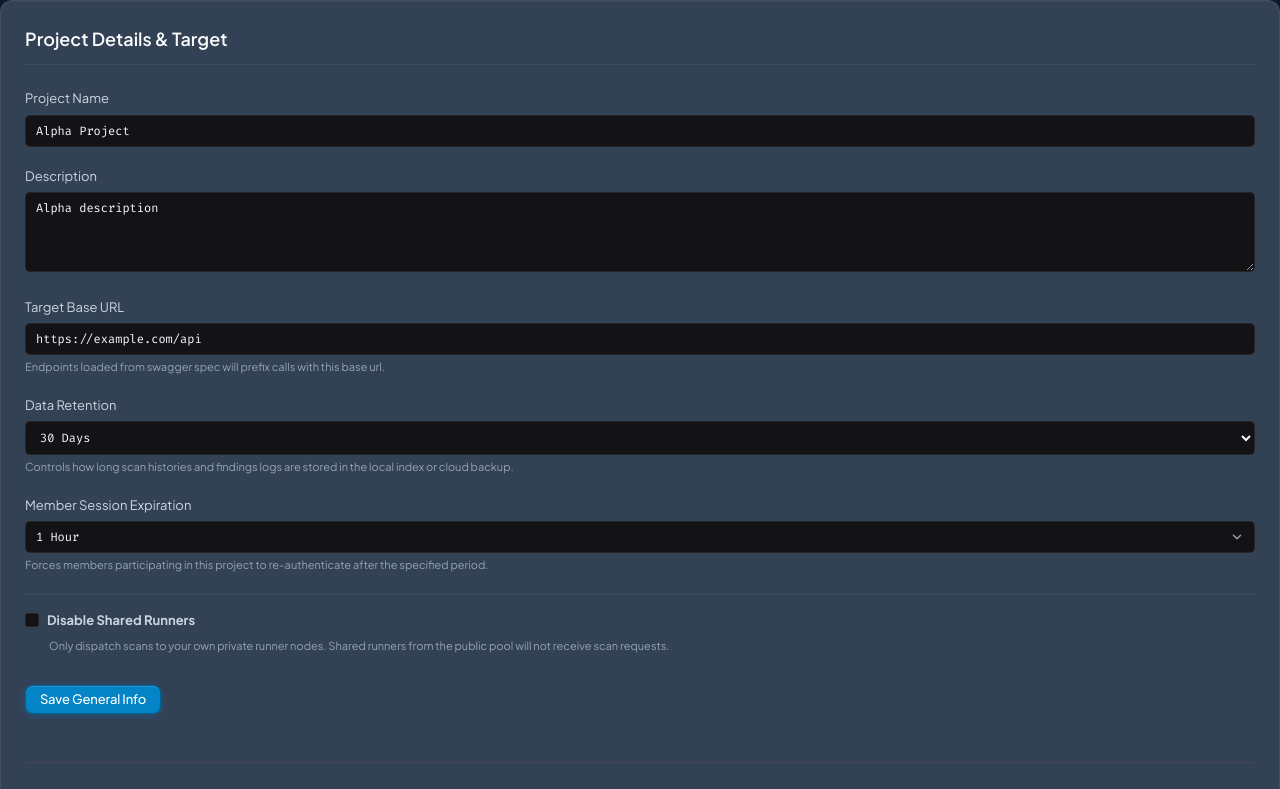
Test: GeneralTab Component › handles save error when backend responds with error message
The image size is (1280, 789).
Click the button "Save General Info" at [93, 700], box [25,685,161,714]
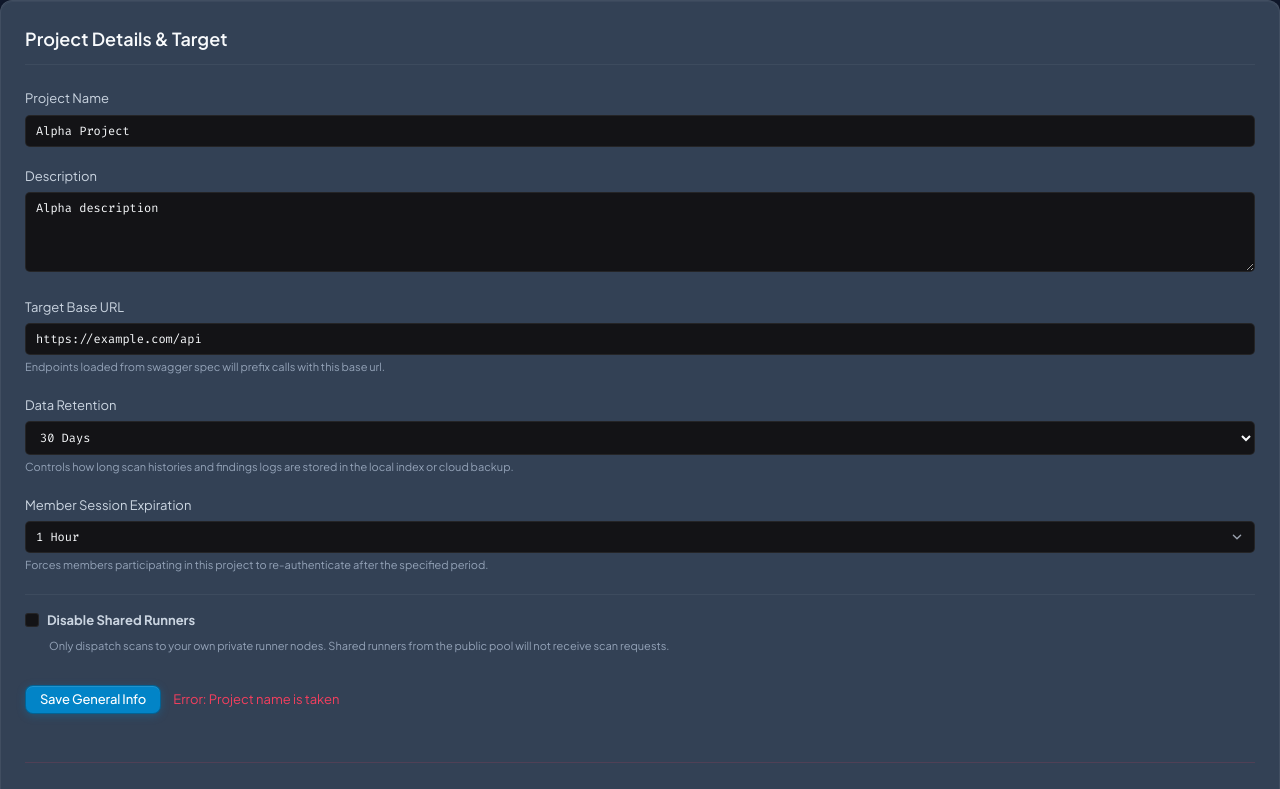
Result: the text "Error: Project name is taken" is shown at [173,690,340,710]
